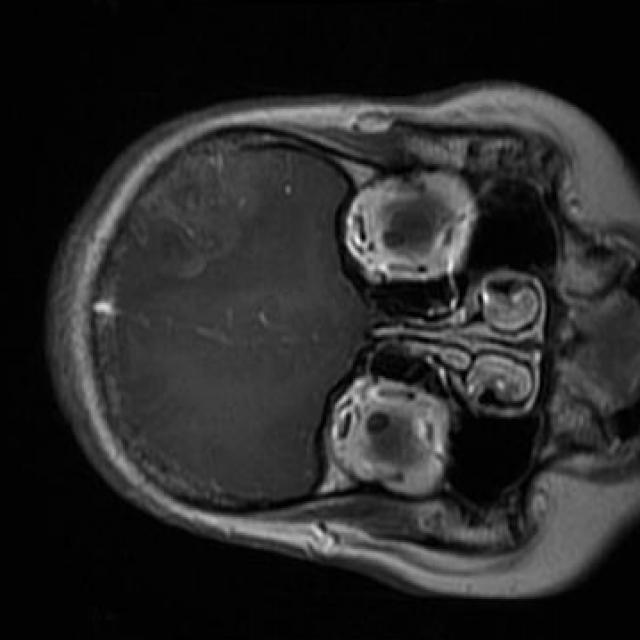glioma: (141, 144, 262, 280)
